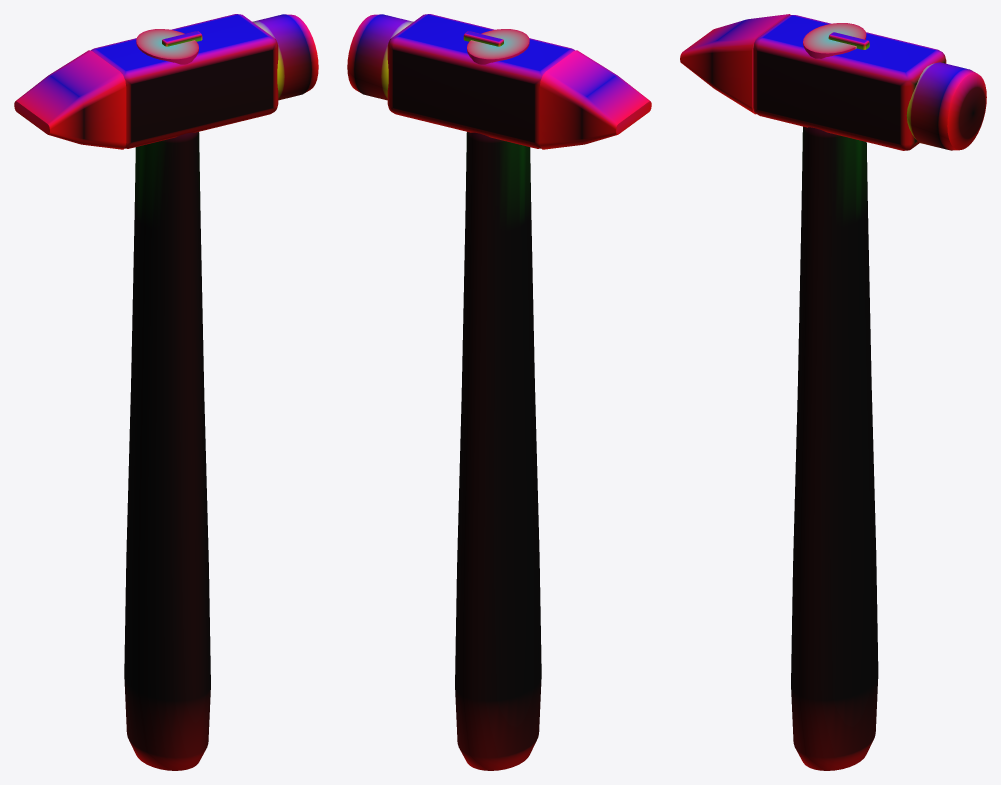
The model's file is prop_hammer.fbx.
3 views of the same model, side by side, from view 1: azimuth 30°, elevation 25°; view 2: azimuth 150°, elevation 25°; view 3: azimuth 330°, elevation 25° (orthographic).
Visible parts, largest first — view 1: prop_hammer; view 2: prop_hammer; view 3: prop_hammer.
Boxes of the visible parts, left/top/right/bottom form: prop_hammer: left=14, top=14, right=318, bottom=770; prop_hammer: left=347, top=14, right=651, bottom=770; prop_hammer: left=680, top=14, right=986, bottom=770.
Size of the model in its own units: 0.133 by 0.333 by 0.0444.
